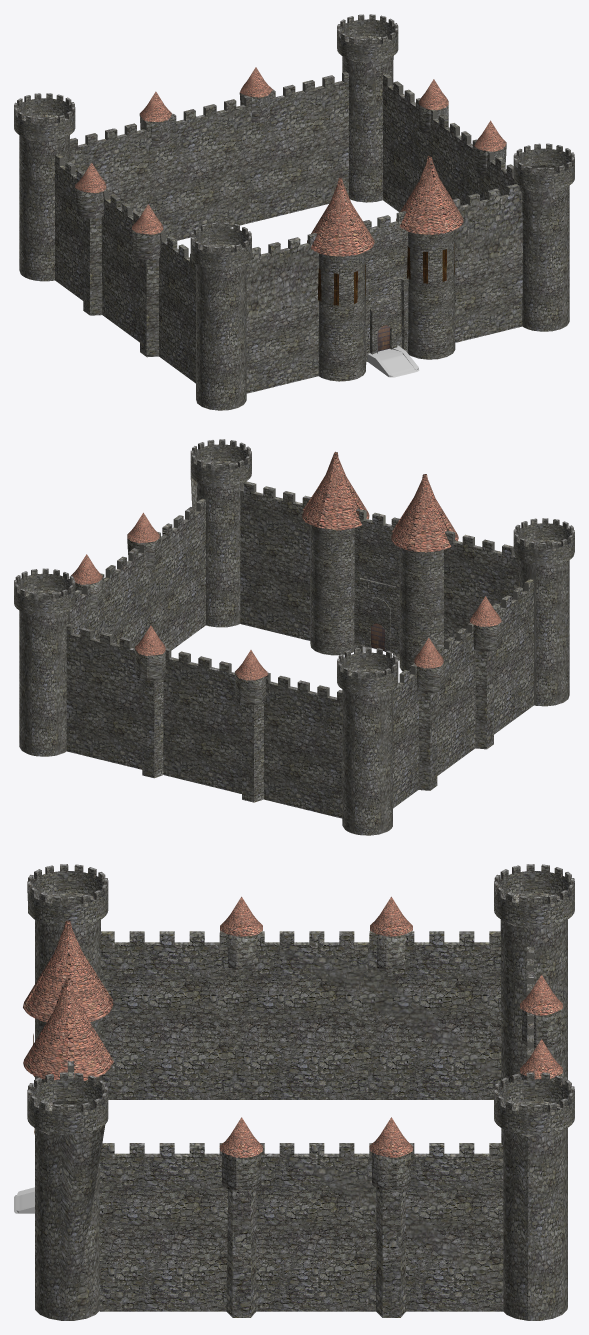
Rendered from darkcastle.fbx.
3 views of the same model, one above another, from view 1: azimuth 30°, elevation 25°; view 2: azimuth 150°, elevation 25°; view 3: azimuth 270°, elevation 25° (orthographic). The views are drawn at different scales.
Visible parts, largest first — view 1: CASTLE; view 2: CASTLE; view 3: CASTLE.
Boxes of the visible parts, <box> form: CASTLE: <box>14,14,574,410</box>; CASTLE: <box>14,439,574,835</box>; CASTLE: <box>14,864,574,1320</box>.
Bounding box in the file's own units: 32.34 × 15.8 × 31.61.
